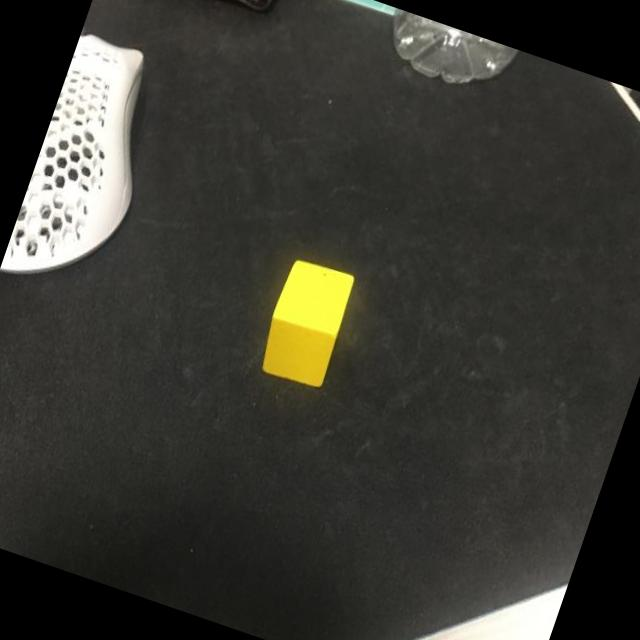yellow: (254, 254, 360, 391)
